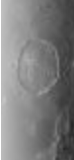crater: (7, 22, 70, 109)
